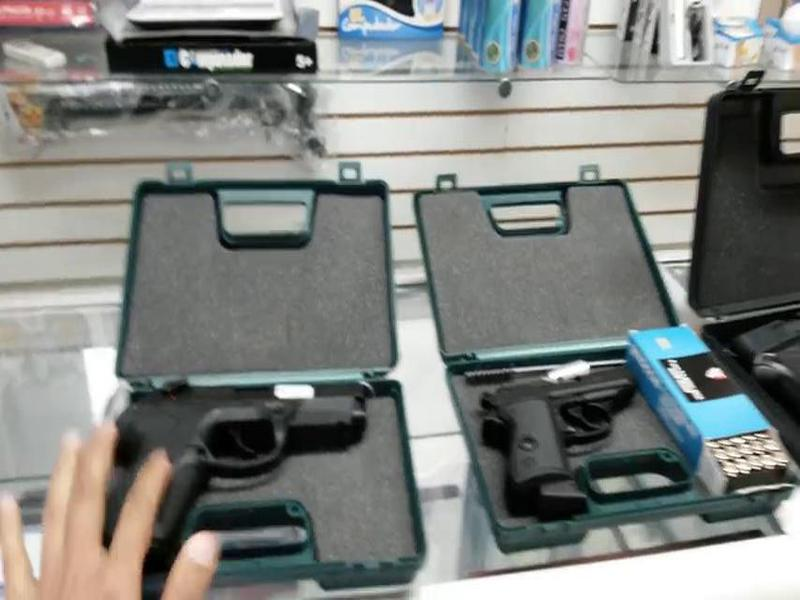Pistola: (93, 355, 390, 572), (471, 341, 691, 533)
